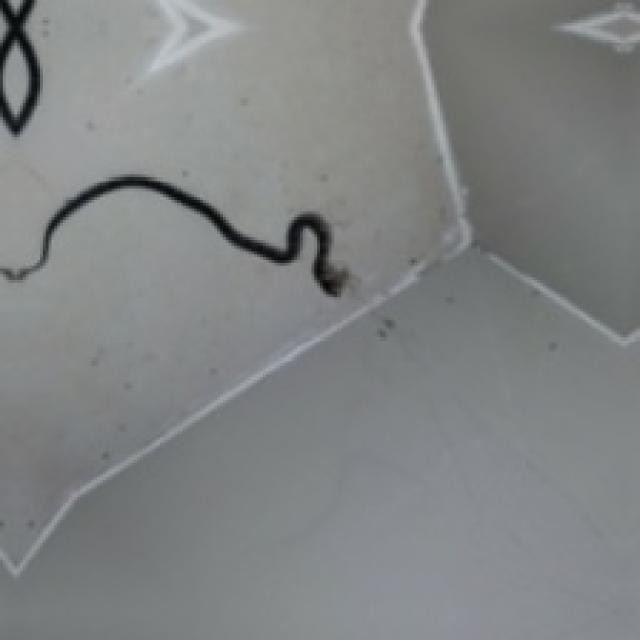gunthers philippine shrub snake: (0, 174, 346, 294)
